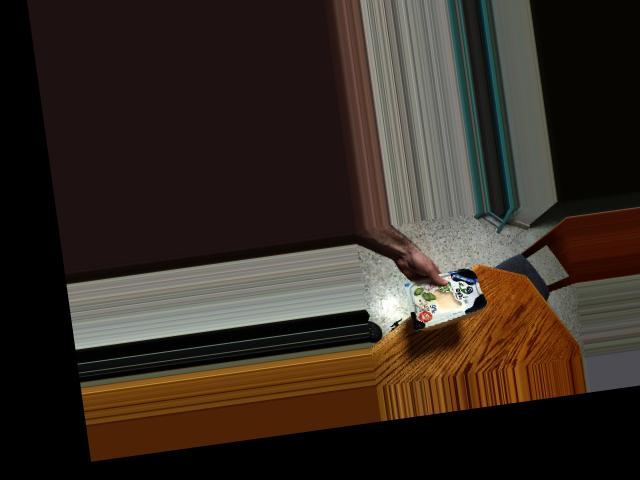cheese: (397, 252, 488, 336)
